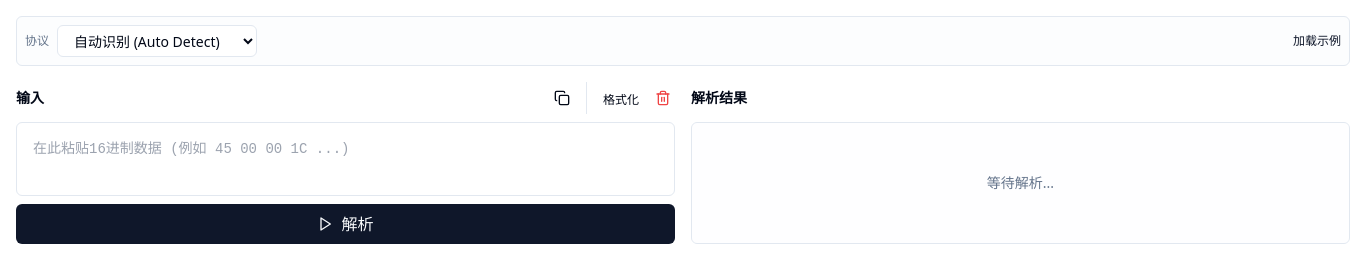
Test: ParserView › should show save confirmation modal when clicking save
Step 1. Type "12 34" into the text box with placeholder "在此粘贴16进制数据 (例如 45 00 00 1C ...)" → (346, 159), box [16,122,675,196]
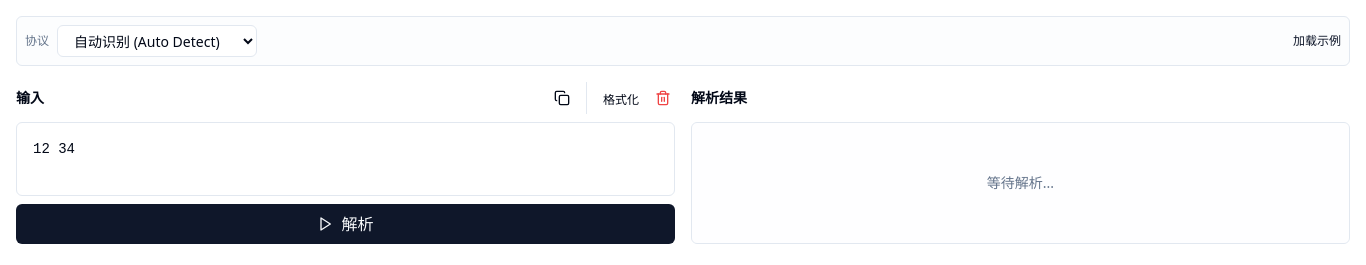
Step 2. Select "Rule 1" in the dropdown → (157, 41), box [57,25,257,57]
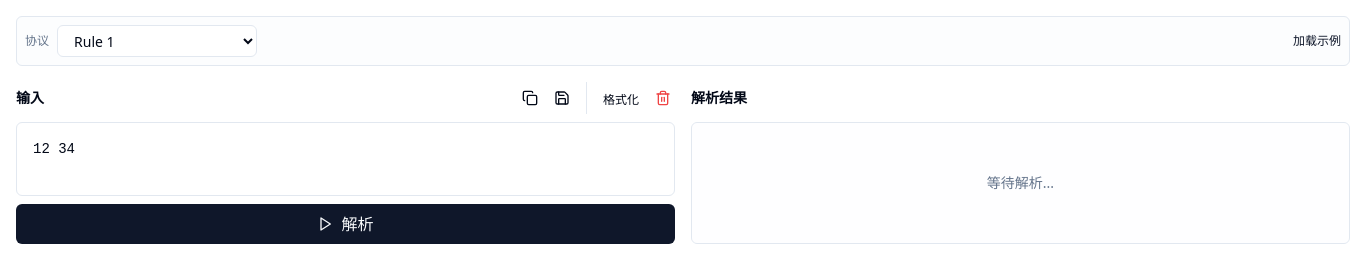
Note: Click save button
Step 3. Click the button titled "保存为示例" → (562, 98), box [550,82,574,114]
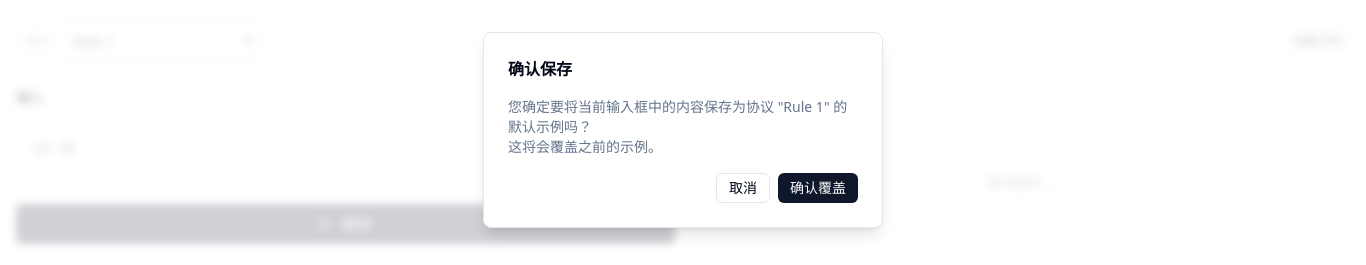
Expected: the heading "确认保存" is shown, [508,58,572,80]
Expected: the button "确认覆盖" is shown, [778,173,858,203]
